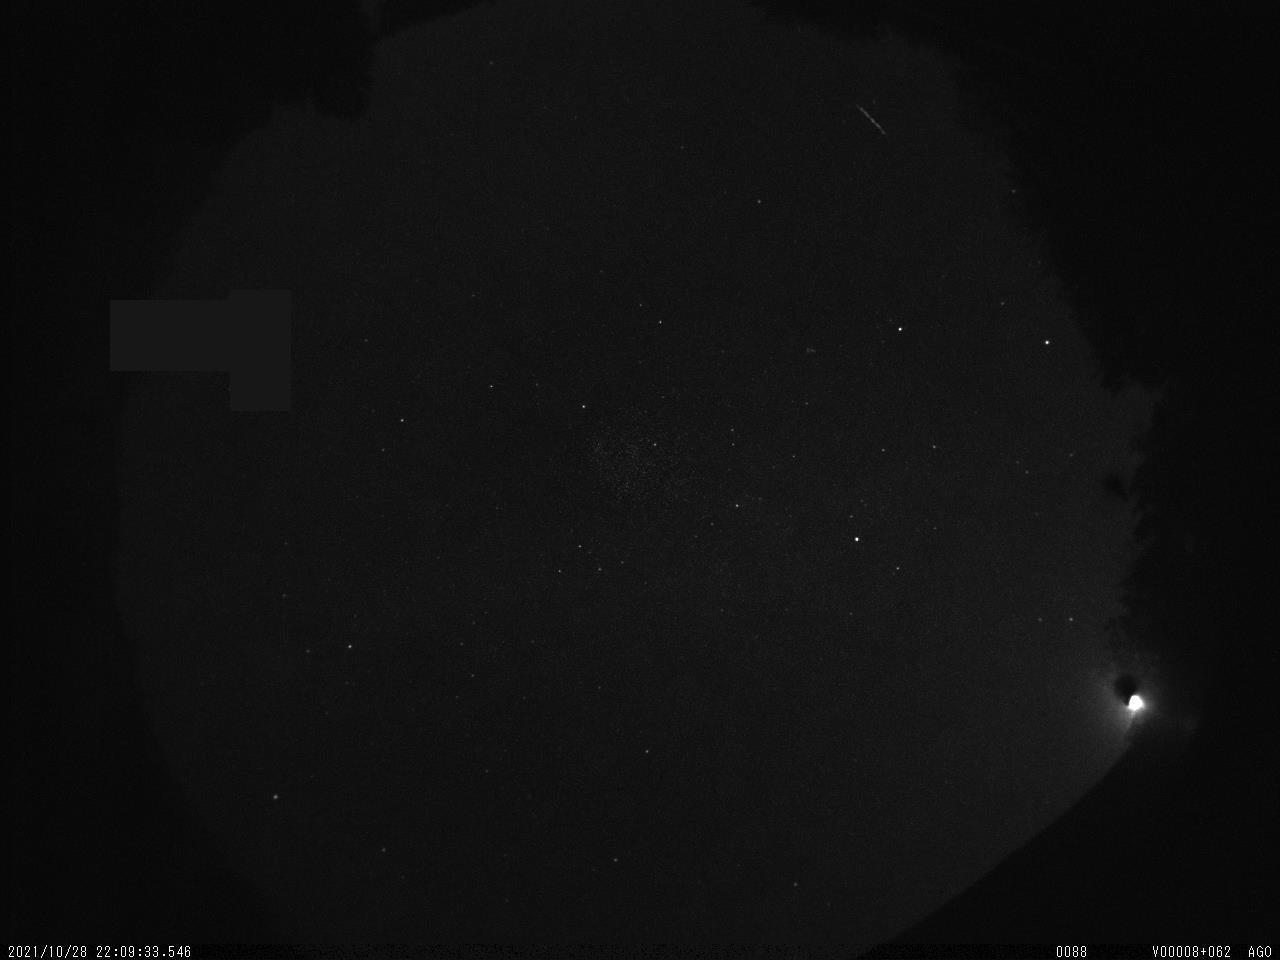Meteor: (854, 100, 889, 140)
